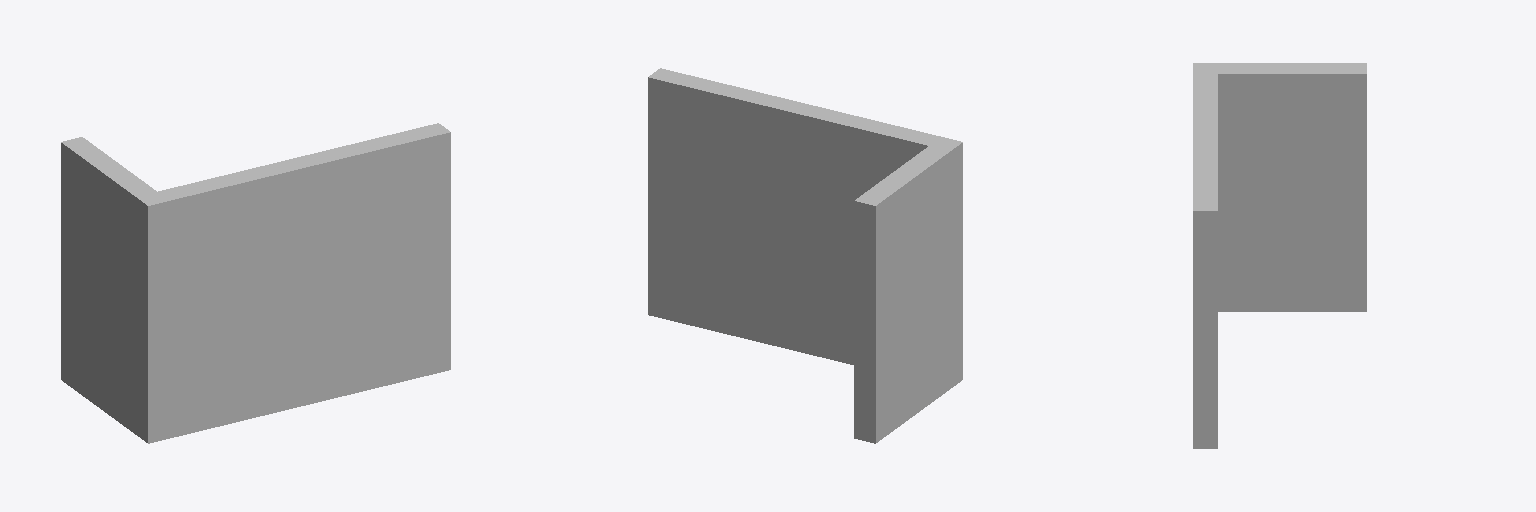
The model's file is MidWall.obj.
3 renders of one model, left to right at view 1: azimuth 30°, elevation 25°; view 2: azimuth 150°, elevation 25°; view 3: azimuth 270°, elevation 25°, orthographic.
Visible parts, largest first — view 1: MidWall; view 2: MidWall; view 3: MidWall.
Part boxes in pixels (left/top/right/bottom): MidWall: left=61, top=123, right=450, bottom=443; MidWall: left=648, top=68, right=962, bottom=443; MidWall: left=1193, top=63, right=1366, bottom=448.
Size of the model in its own units: 14 by 10.5 by 7.